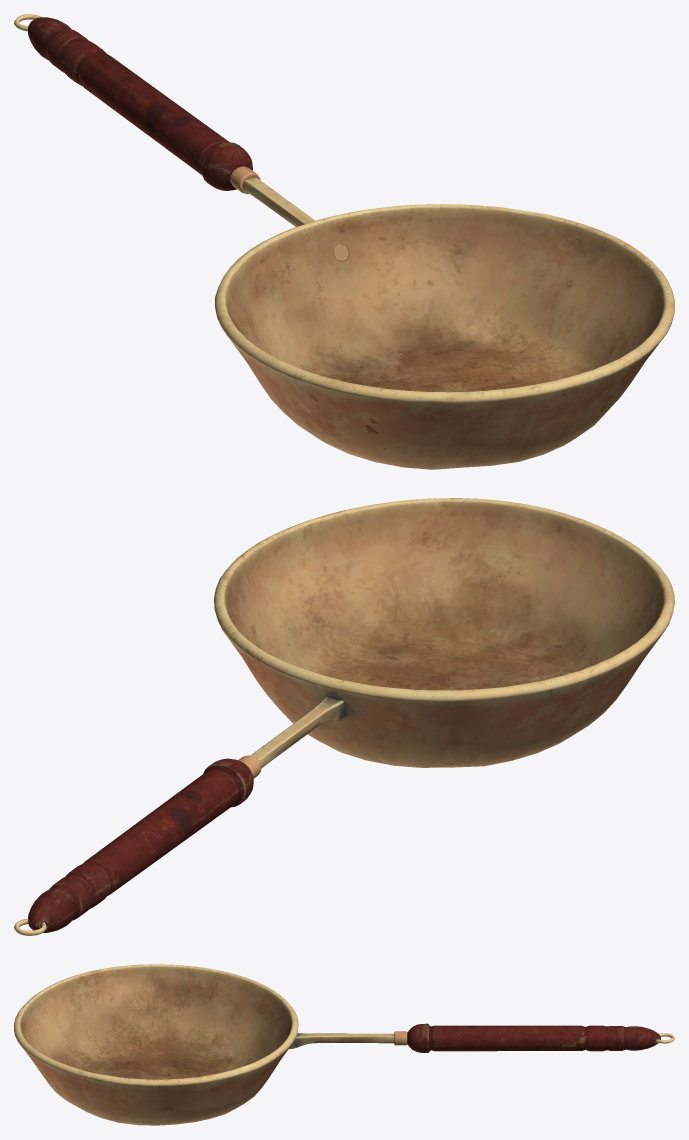
File: brass_pan_01.glb
3 views of the same model, one above another, from view 1: azimuth 30°, elevation 25°; view 2: azimuth 150°, elevation 25°; view 3: azimuth 270°, elevation 25° (orthographic). The views are drawn at different scales.
Visible parts, largest first — view 1: brass_pan_01; view 2: brass_pan_01; view 3: brass_pan_01.
Boxes of the visible parts, x1,y1,x2,y2 form: brass_pan_01: (14,14,674,469); brass_pan_01: (14,498,674,935); brass_pan_01: (14,964,674,1125).
Size of the model in its own units: 0.1913 by 0.0525 by 0.4497.
Materials: 1 (1 with a texture image).
